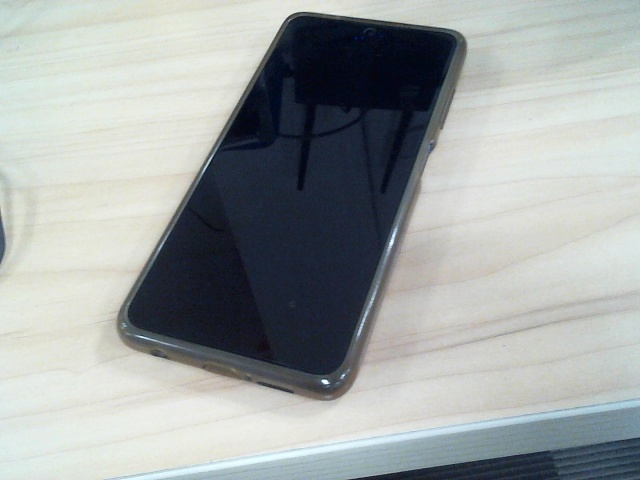handphone: (115, 11, 468, 402)
